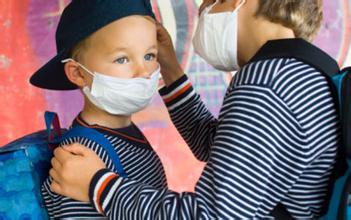WRONG: (85, 36, 163, 114)
